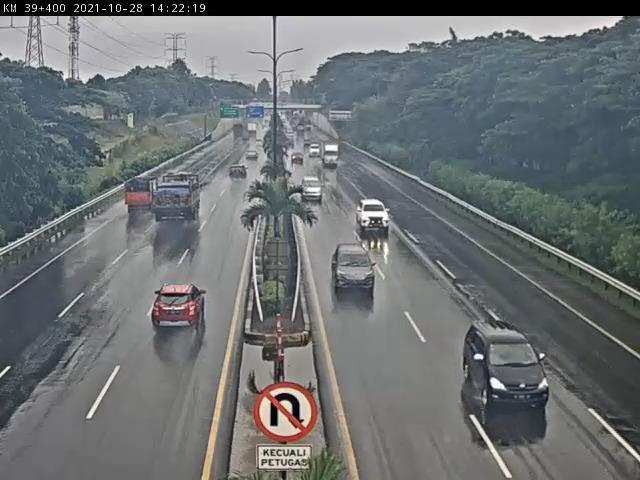car: (464, 321, 554, 415), (152, 285, 211, 333), (332, 244, 380, 295), (356, 198, 394, 236), (301, 176, 325, 203), (226, 164, 249, 183)
truck: (151, 173, 204, 222), (126, 177, 161, 210)
